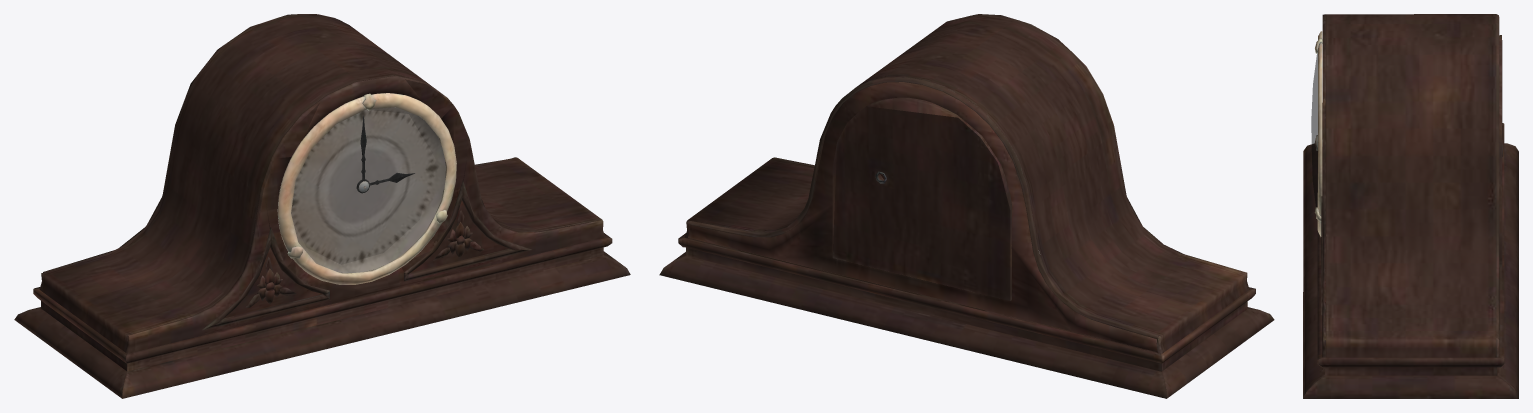
The model's file is mantel_clock_01.glb.
The picture shows the model from 3 angles, left to right: view 1: azimuth 30°, elevation 25°; view 2: azimuth 150°, elevation 25°; view 3: azimuth 270°, elevation 25°; orthographic projection.
Parts seen in each view (by area): view 1: mantel_clock_01; view 2: mantel_clock_01; view 3: mantel_clock_01.
Part boxes in pixels (x1,y1,x2,y2): mantel_clock_01: (14, 14, 630, 398); mantel_clock_01: (659, 14, 1274, 398); mantel_clock_01: (1303, 14, 1518, 398).
Bounding box in the file's own units: 0.3424 × 0.1605 × 0.126.
2 materials, 2 textured.
